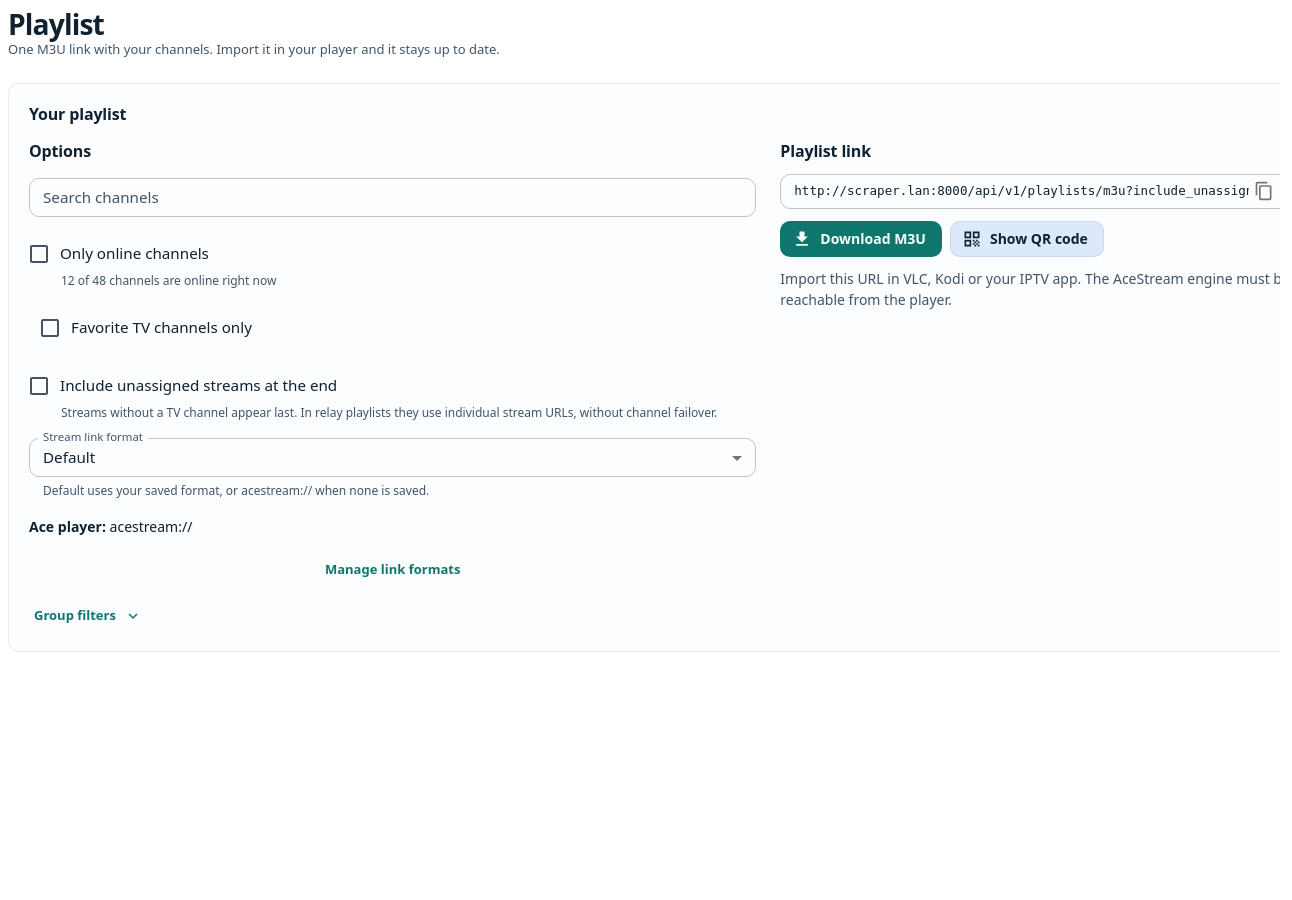
Scenario: Playlist page › offers stable TV channel relay URLs without saving a custom format
The width and height of the screenshot is (1292, 900).
Press the mouse on the dropdown named "Stream link format" at (69, 457), box [43, 447, 95, 467]
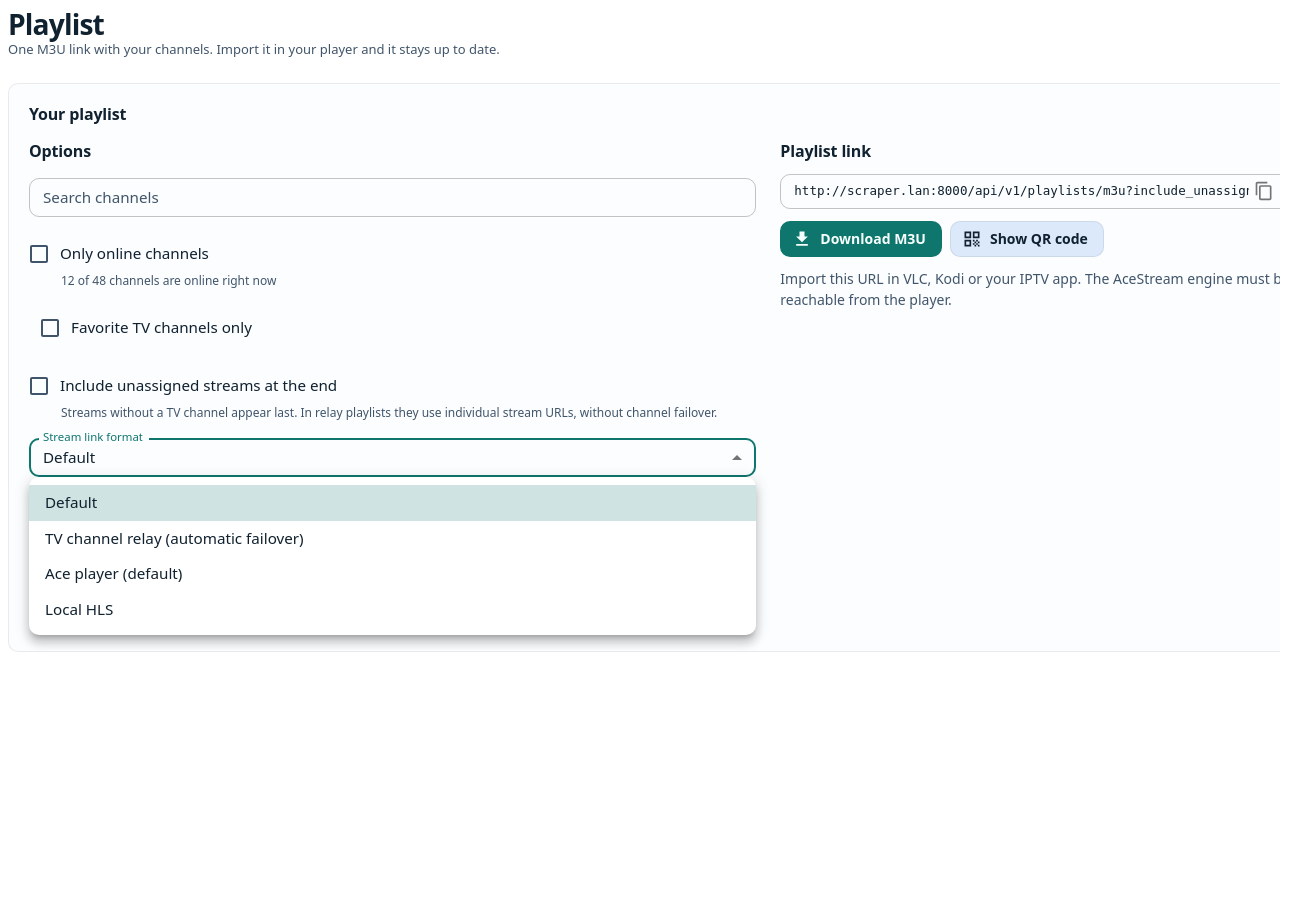
Click the option "TV channel relay (automatic failover)".
click(174, 538)  # box [45, 528, 304, 548]
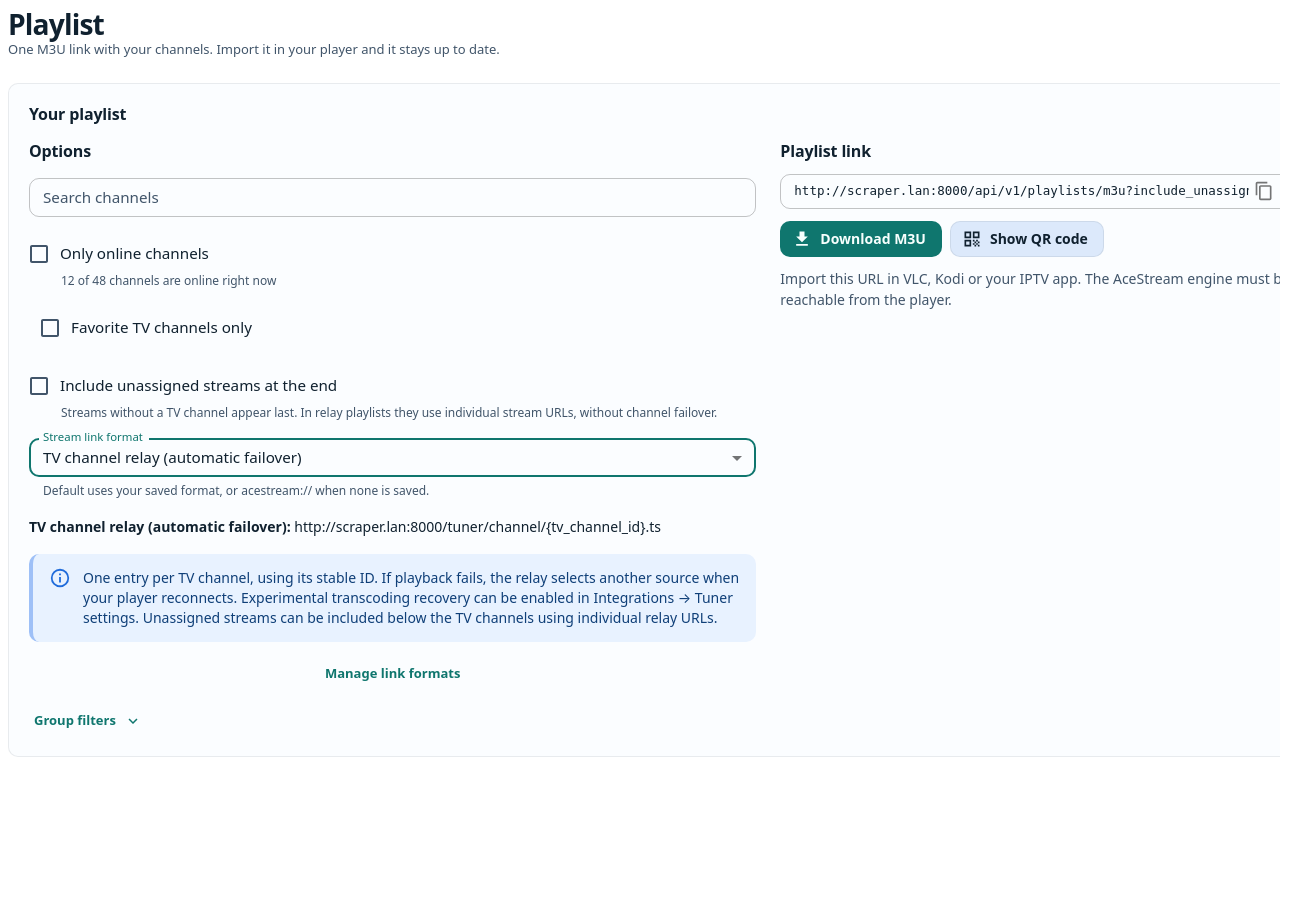
Now the text "One entry per TV channel" is shown, box [83, 568, 739, 627]
